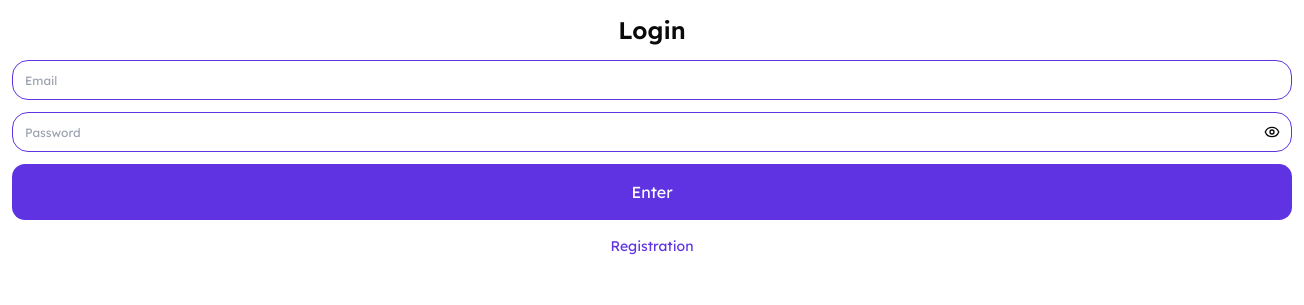
LoginForm › Form Validation › should show password validation error
Type "test@example.com" into the field with placeholder "Email". click: (652, 80)
box: [12,60,1292,100]
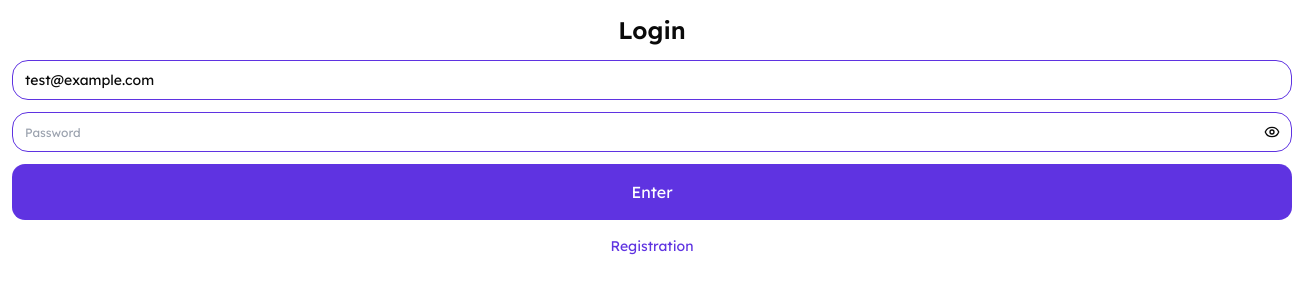
Click the button "Enter". click: (652, 192)
box: [12,164,1292,220]
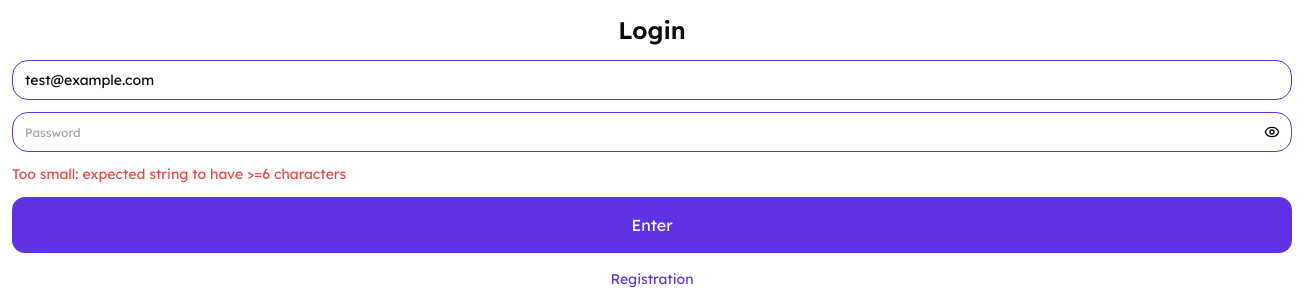
Expected: the text "Too small: expected string to have >=6 characters" is shown, [12,165,346,183]
